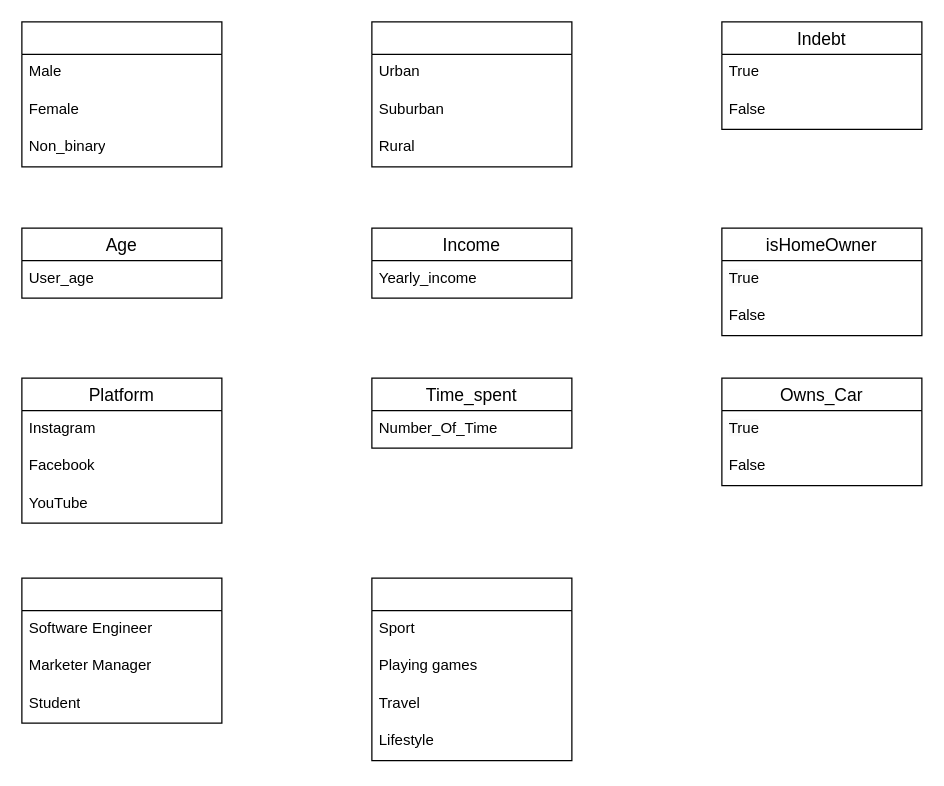
Some shapes in this 944 by 786 pixel diagram are drawn without their labels. The box of each missing label's shape, as (x1, y1, x2, y2) in pixels:
Demographics: (371, 21, 572, 167)
Gender: (21, 21, 222, 167)
Interests: (371, 577, 572, 761)
Profession: (21, 577, 222, 723)
